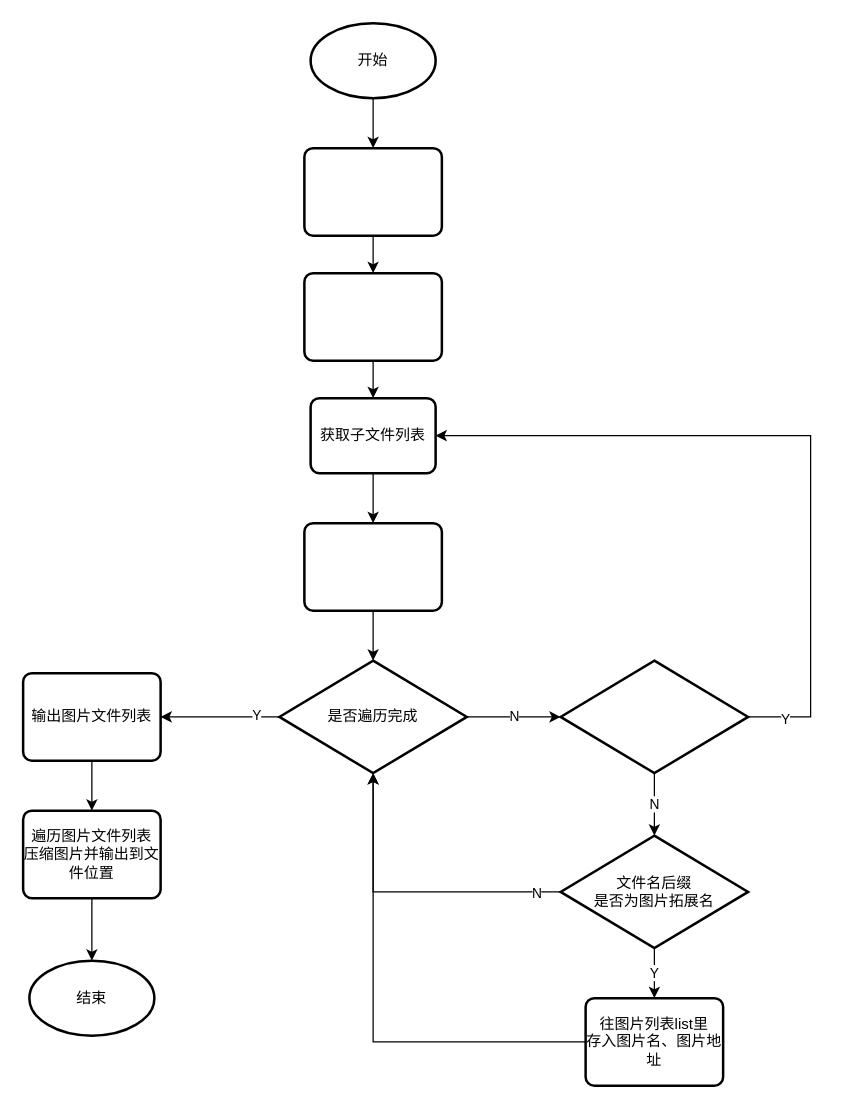
This 843x1108 diagram has some shape labels left out. Here are the shapes that lost their labels. From the top down, the centre of each, then its label:
At (372,191): "选择文件夹路径 选择图片拓展名".
At (372,316): "新建图片文件列表 变量list".
At (372,566): "广度优先 遍历文件列表".
At (654,716): "文件路径 是否为文件夹".
